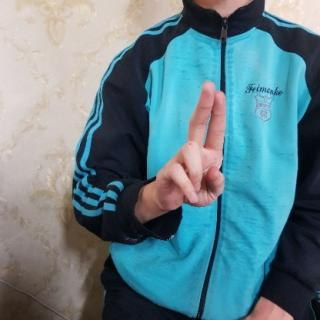TA: (149, 82, 232, 220)
